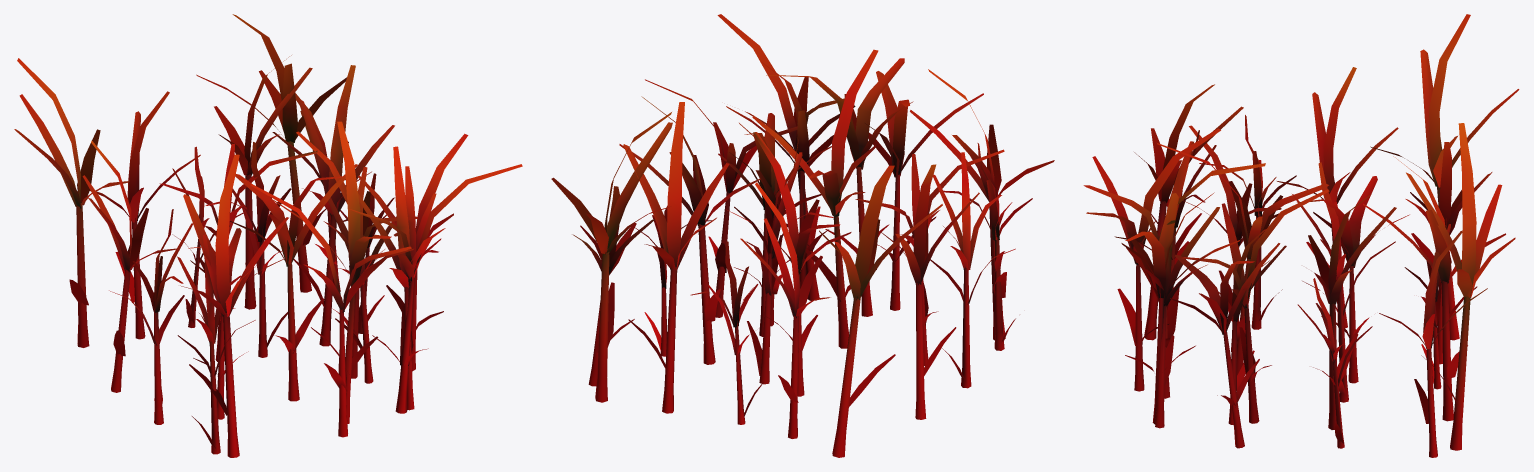
The model's file is SM_SugarCane_2.fbx.
3 renders of one model, left to right at view 1: azimuth 30°, elevation 25°; view 2: azimuth 150°, elevation 25°; view 3: azimuth 270°, elevation 25°, orthographic. The views are drawn at different scales.
Visible parts, largest first — view 1: SM_SugarCane_2; view 2: SM_SugarCane_2; view 3: SM_SugarCane_2.
Part boxes in pixels (bbox=[...]): SM_SugarCane_2: bbox=[14, 14, 522, 457]; SM_SugarCane_2: bbox=[551, 14, 1054, 457]; SM_SugarCane_2: bbox=[1083, 14, 1519, 457].
Size of the model in its own units: 1.38 by 1.06 by 1.41.
